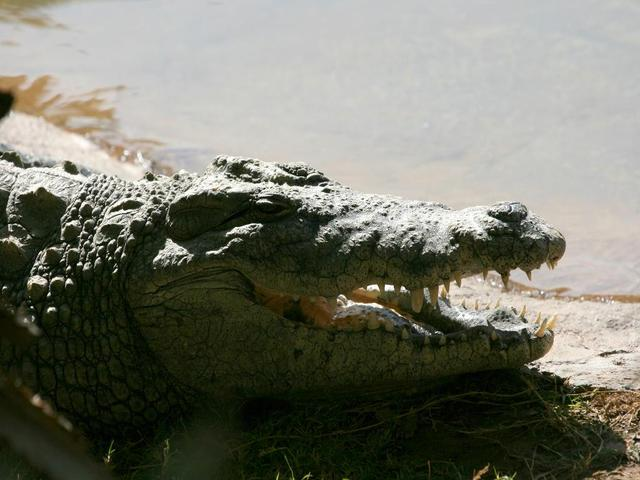crocodile: (13, 118, 619, 453)
